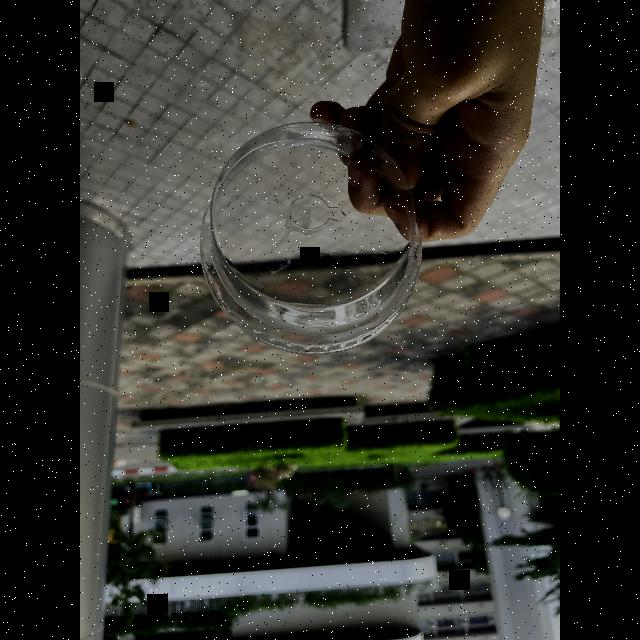plastic_cup_lid: (198, 117, 426, 360)
